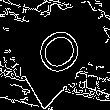O_NE: (30, 14, 91, 77)
